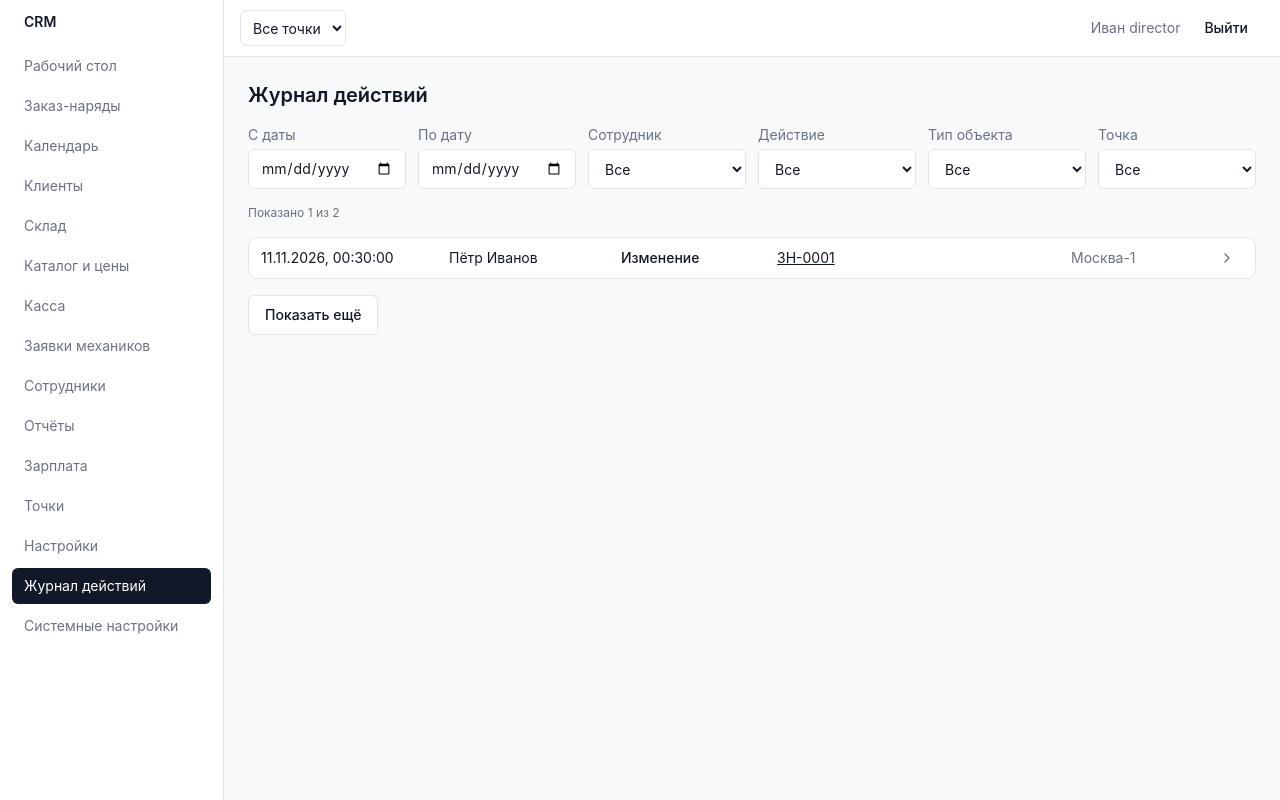
Test case: журнал действий D-08 › руководитель: лента, время в поясе точки, раскрытие «было → стало», «Показать ещё»
The image size is (1280, 800).
Expected: the text "Изменение" is shown, top-left (621, 249), bottom-right (700, 266)
Expected: the text "11.11.2026, 00:30:00" is shown, top-left (261, 249), bottom-right (394, 266)
What coordinates should you click on to do the following:
click the button named "Показать подробности"
I would click on:
 (1227, 258)
Its box is top-left (1211, 246), bottom-right (1243, 270).
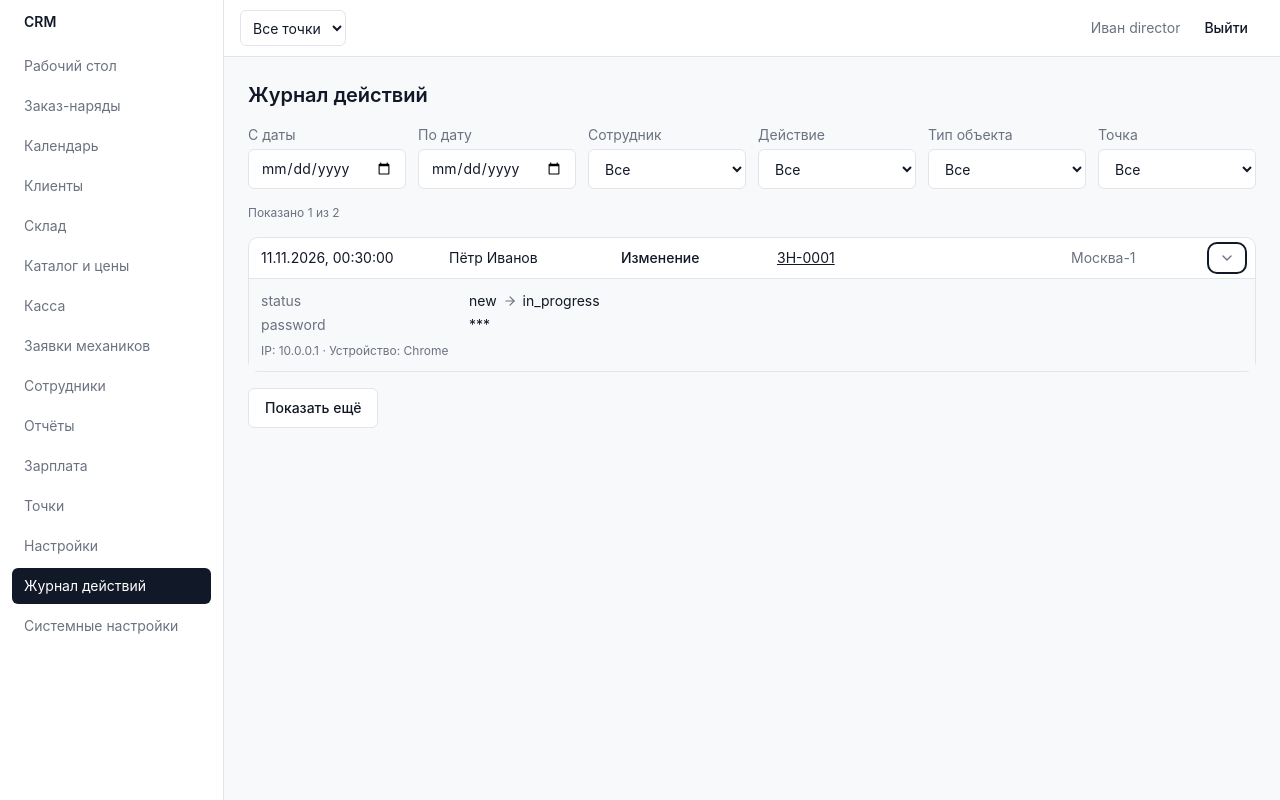
Now the element named "стало" reads "new in_progress", box top-left (469, 292), bottom-right (600, 309)
Now the text "***" is shown, box top-left (469, 316), bottom-right (490, 333)
Now the text "IP: 10.0.0.1 · Устройство: Chrome" is shown, box top-left (261, 343), bottom-right (448, 358)
What coordinates should you click on to do the following:
click the button "Показать ещё"
I would click on:
 (313, 408)
Its box is top-left (248, 388), bottom-right (378, 428).
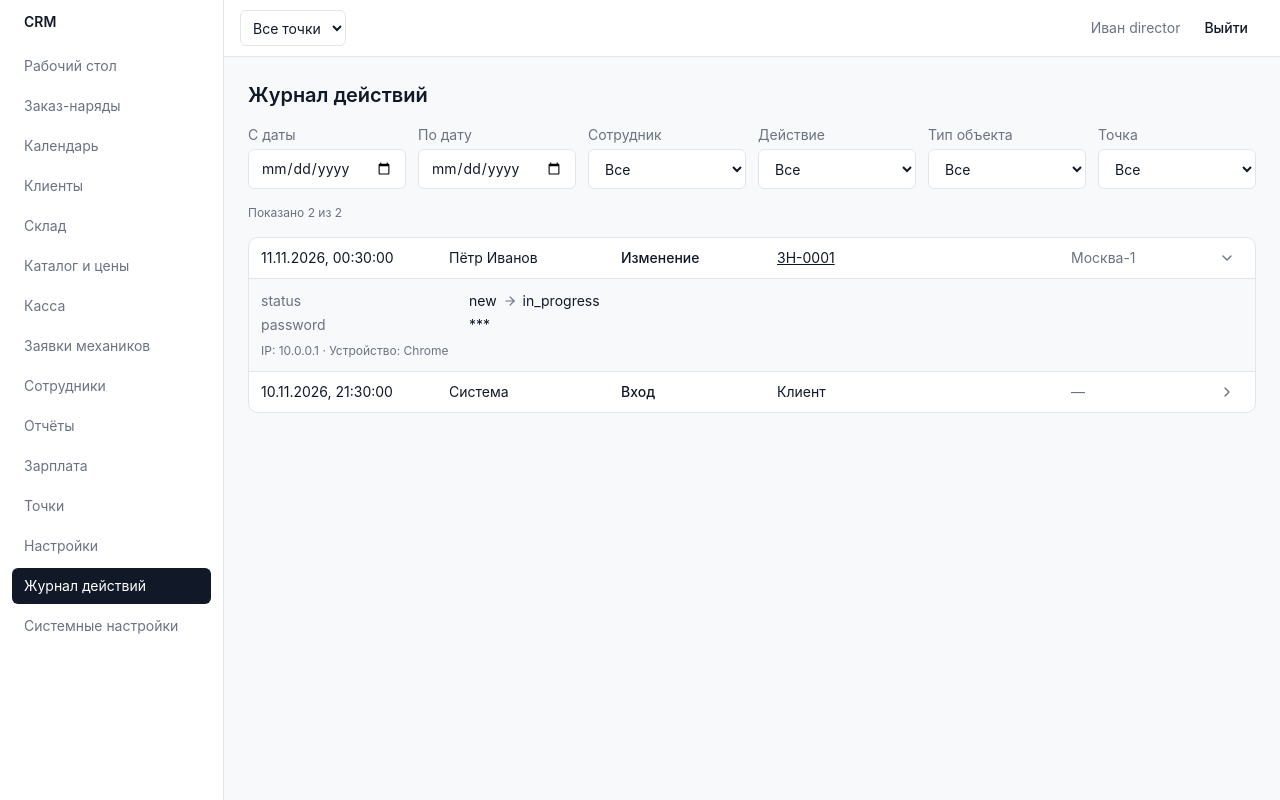
Now the text "Система" is shown, box top-left (449, 383), bottom-right (509, 400)
